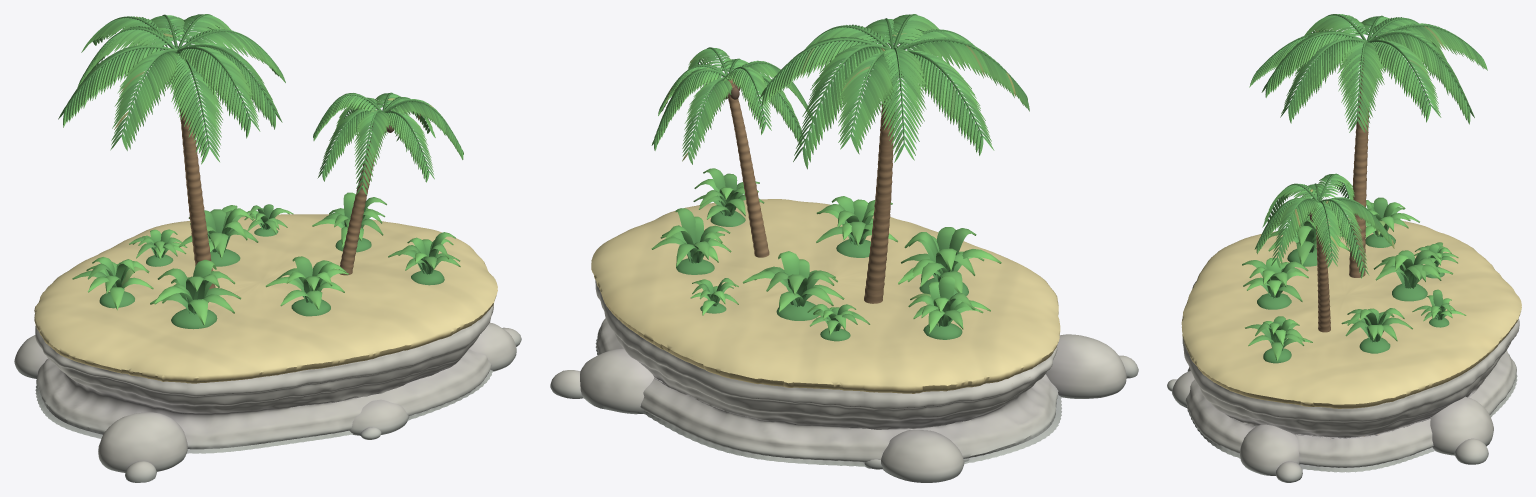
File: CC_B01_PalmIsland.fbx
The picture shows the model from 3 angles, left to right: view 1: azimuth 30°, elevation 25°; view 2: azimuth 150°, elevation 25°; view 3: azimuth 270°, elevation 25°; orthographic projection. The views are drawn at different scales.
Parts seen in each view (by area): view 1: SandCap_LOD0, Rock_LOD0, Fronds_LOD0, Greenery_LOD0, Trunks_LOD0; view 2: SandCap_LOD0, Rock_LOD0, Fronds_LOD0, Greenery_LOD0, Trunks_LOD0; view 3: SandCap_LOD0, Rock_LOD0, Fronds_LOD0, Greenery_LOD0, Trunks_LOD0.
Part boxes in pixels (box(x1,y1,x2,y2)): SandCap_LOD0: box(34, 214, 497, 383); Rock_LOD0: box(14, 304, 521, 482); Fronds_LOD0: box(58, 14, 463, 195); Greenery_LOD0: box(72, 192, 460, 329); Trunks_LOD0: box(179, 105, 376, 288); SandCap_LOD0: box(591, 199, 1060, 393); Rock_LOD0: box(550, 280, 1138, 482); Fronds_LOD0: box(651, 14, 1029, 169); Greenery_LOD0: box(651, 168, 1001, 341); Trunks_LOD0: box(728, 79, 894, 303); SandCap_LOD0: box(1181, 216, 1521, 408); Rock_LOD0: box(1167, 281, 1519, 482); Fronds_LOD0: box(1249, 14, 1487, 278); Greenery_LOD0: box(1242, 197, 1466, 363); Trunks_LOD0: box(1316, 65, 1369, 332).
Size of what is drawn, in the model's own units: 16 by 12 by 12.
